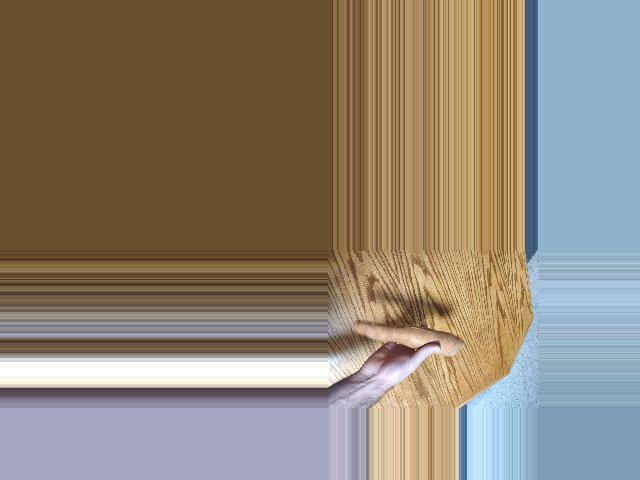sweet_potato: (353, 325, 462, 346)
